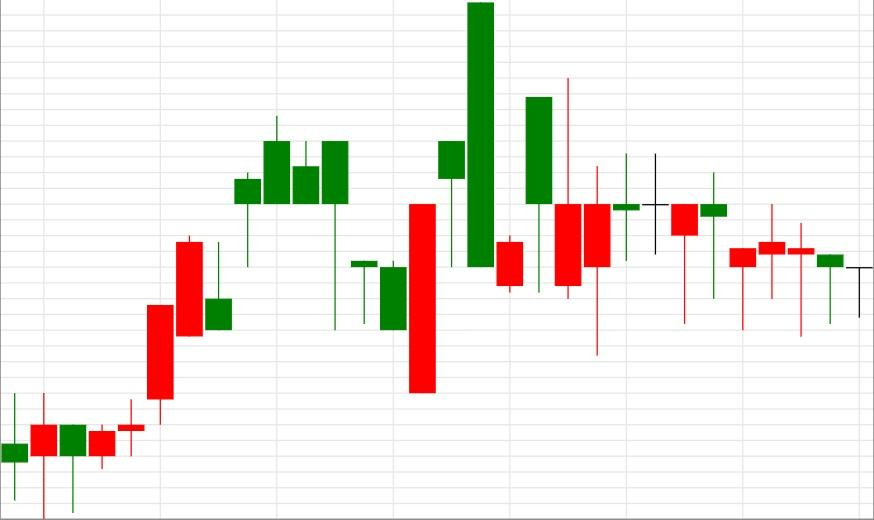bullish_engulfing_rise: (262, 115, 436, 394)
